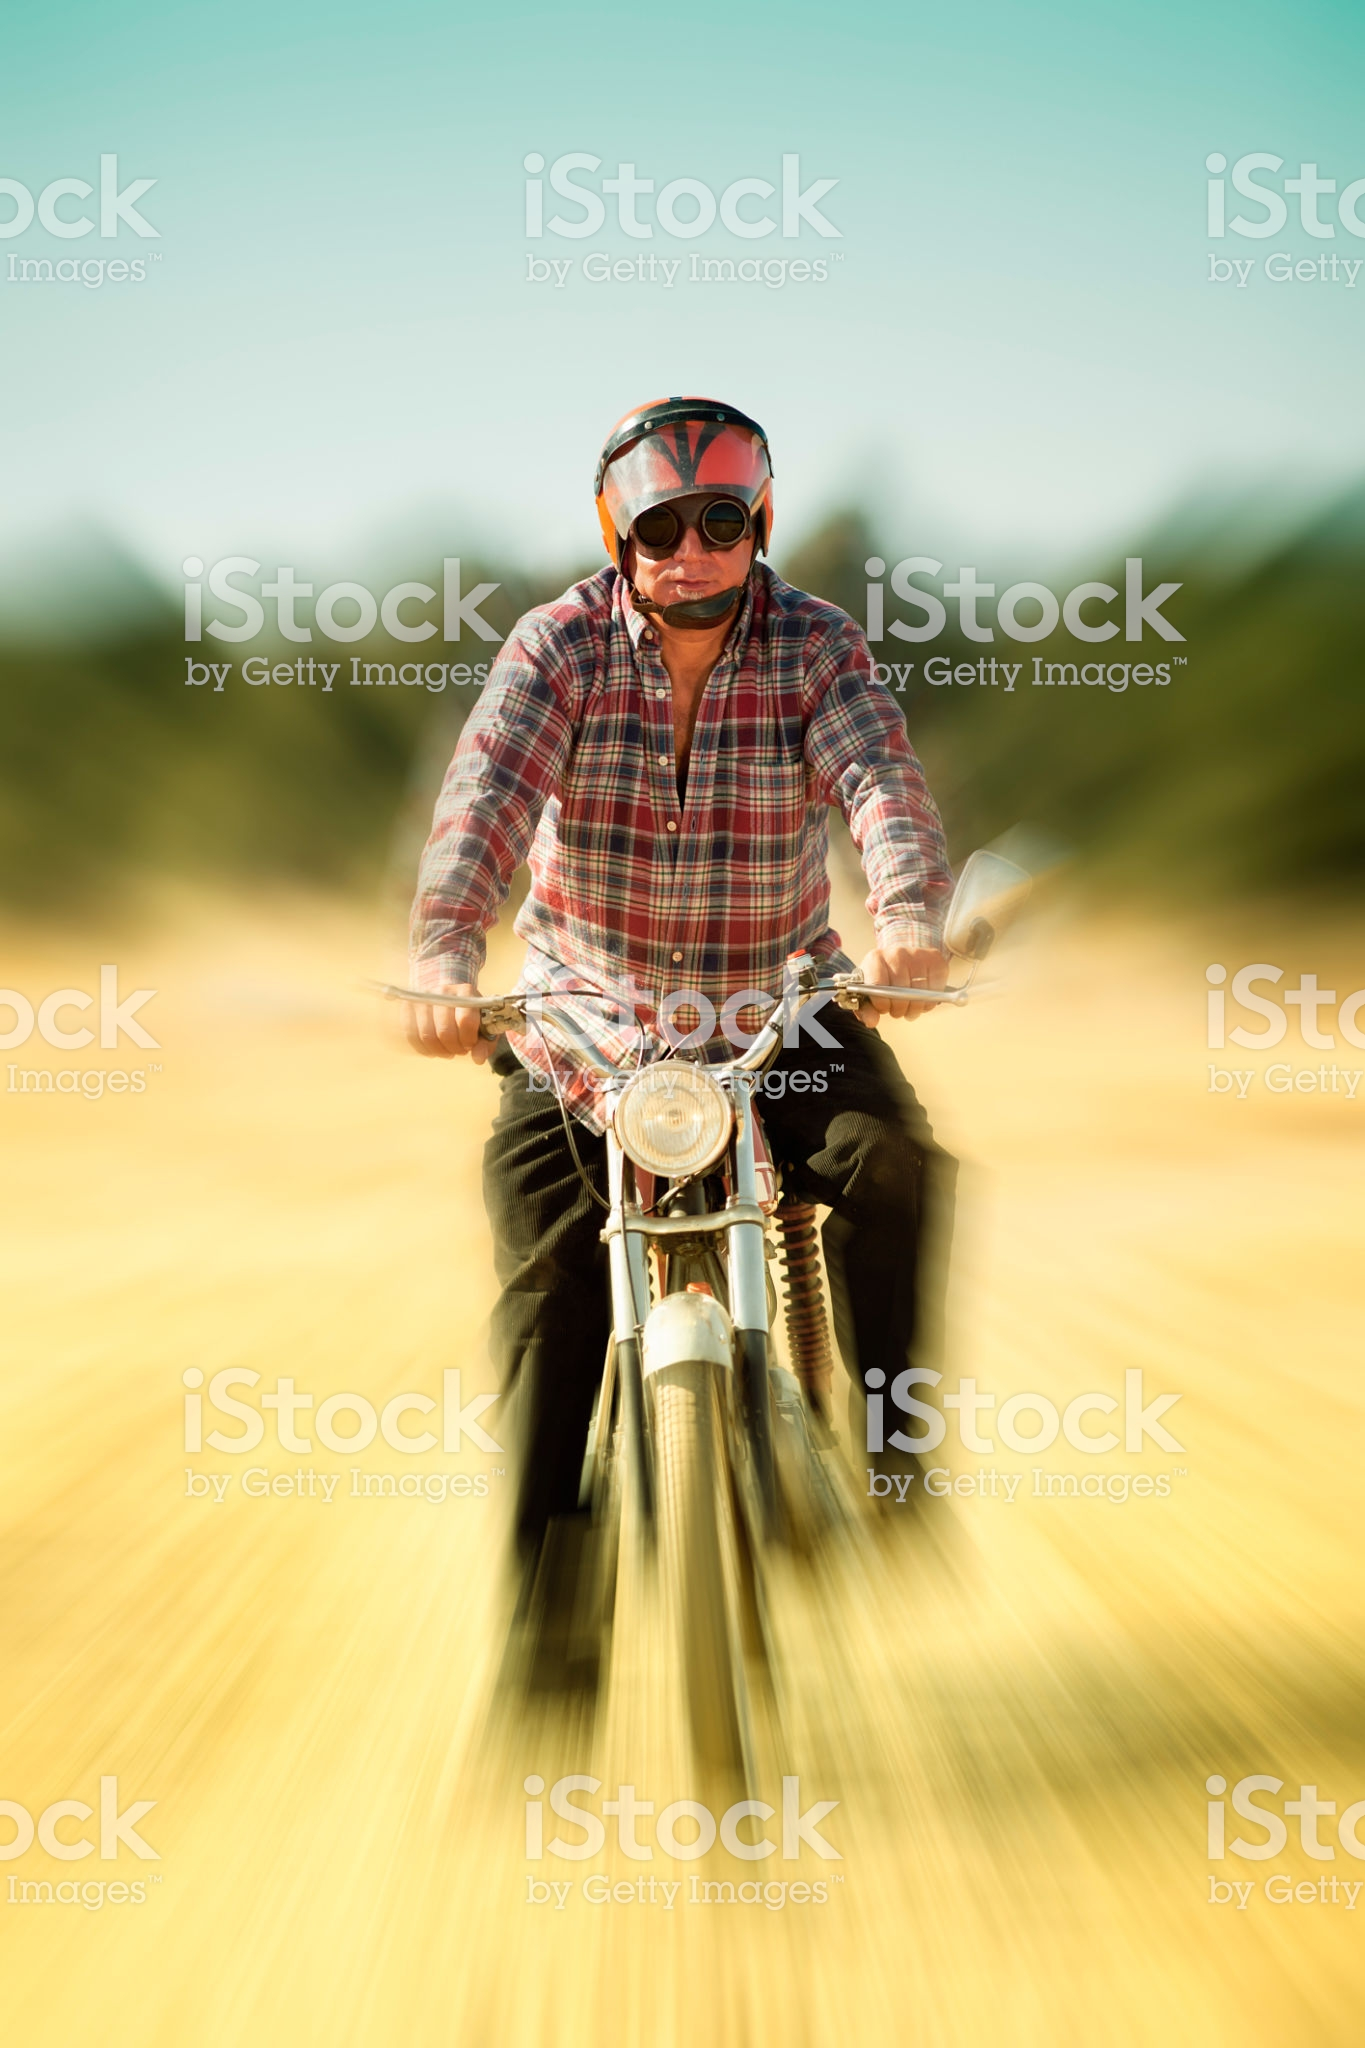helmet: (573, 388, 804, 534)
